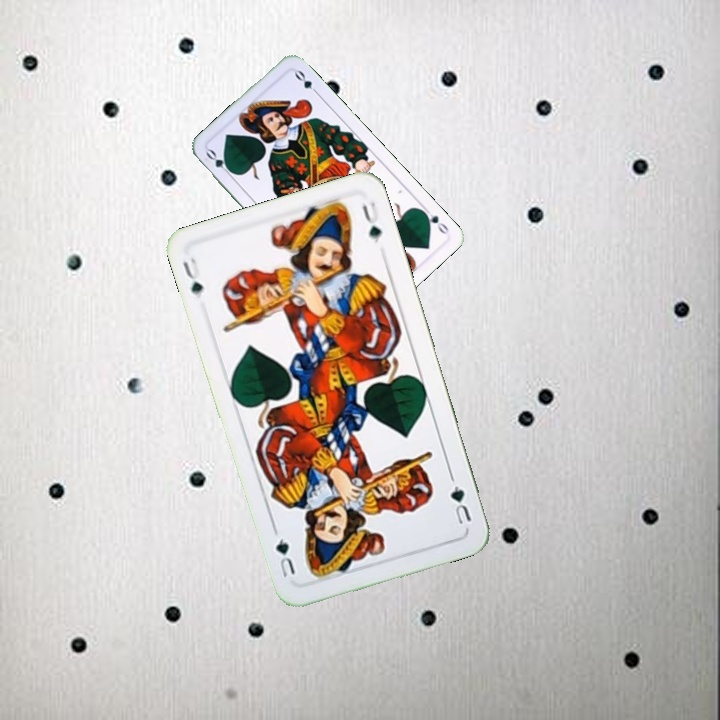GO: (202, 145, 237, 179), (418, 203, 451, 237)
GU: (446, 472, 474, 527), (179, 253, 207, 301)
